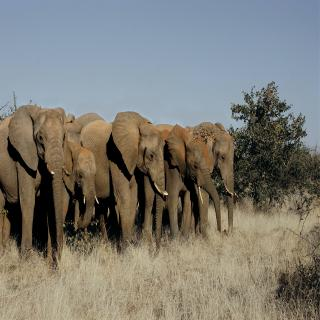Elephant: (72, 111, 171, 263), (0, 104, 71, 272), (151, 114, 224, 258), (59, 142, 102, 246)
